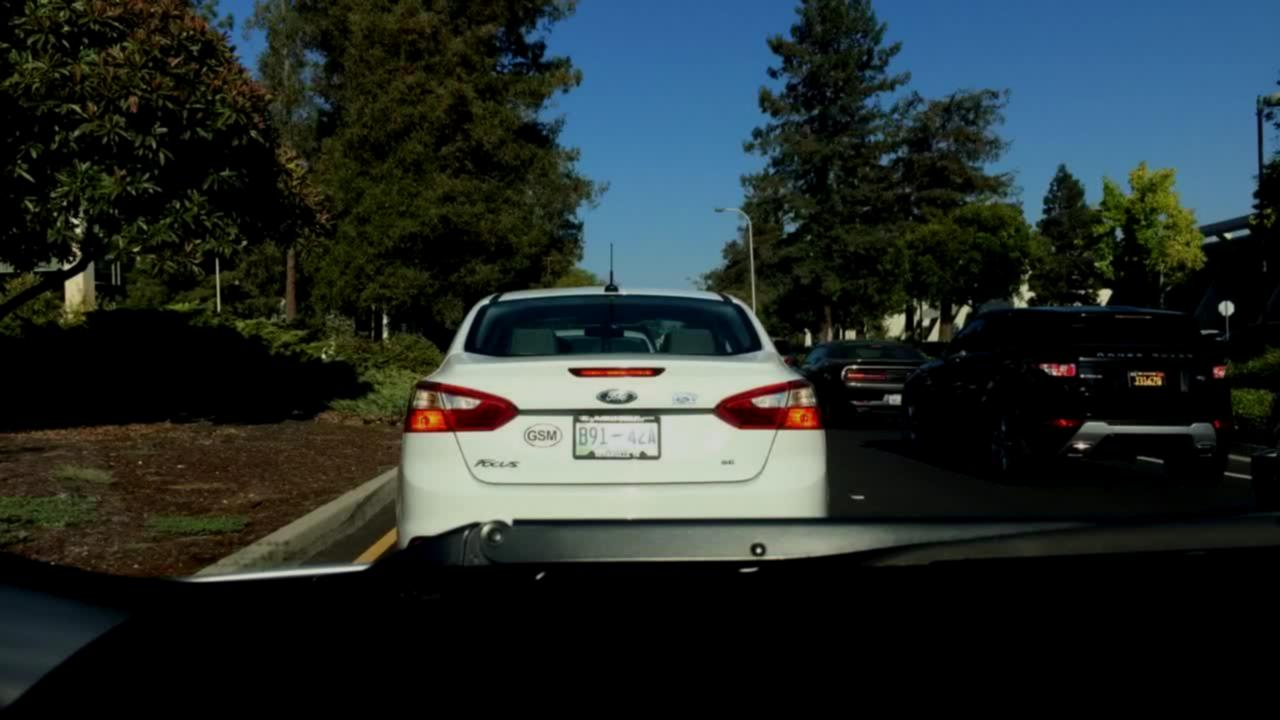ford: (590, 382, 646, 419)
range rover: (1091, 346, 1198, 361)
